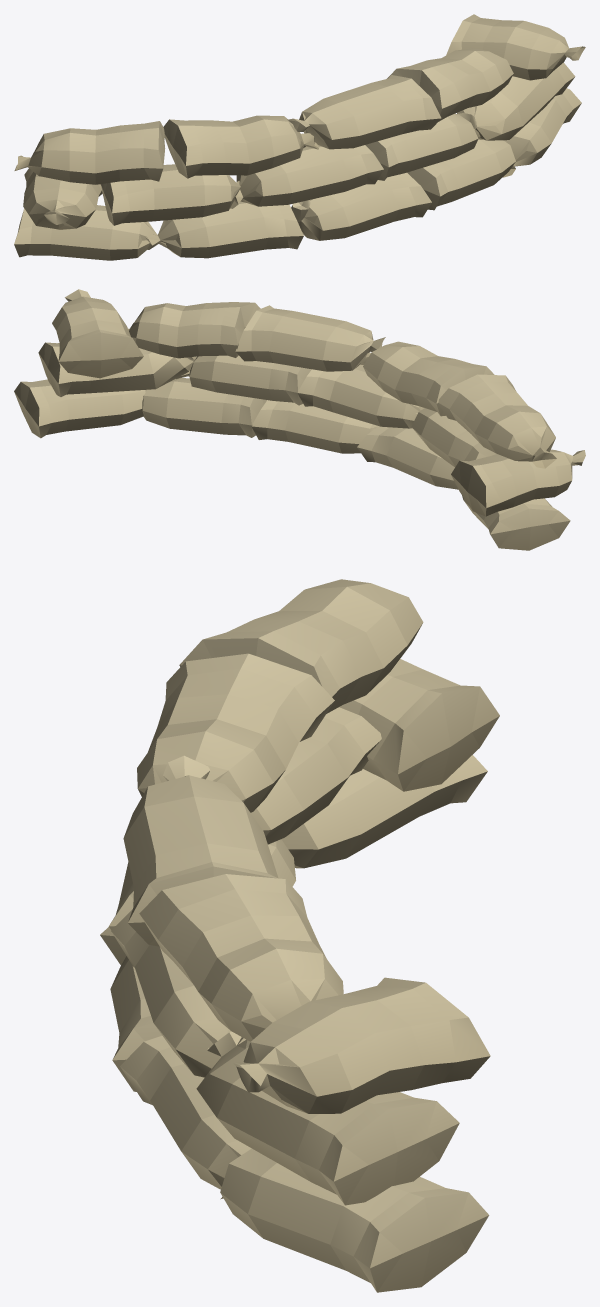
The model's file is SandBag_New.fbx.
The picture shows the model from 3 angles, top to bottom: view 1: azimuth 30°, elevation 25°; view 2: azimuth 150°, elevation 25°; view 3: azimuth 270°, elevation 25°; orthographic projection. The views are drawn at different scales.
Parts seen in each view (by area): view 1: SandBag_New; view 2: SandBag_New; view 3: SandBag_New.
Boxes of the visible parts, x1,y1,x2,y2 form: SandBag_New: [14, 14, 585, 260]; SandBag_New: [14, 289, 585, 550]; SandBag_New: [100, 579, 499, 1292].
Size of the model in its own units: 535 by 119 by 168.
